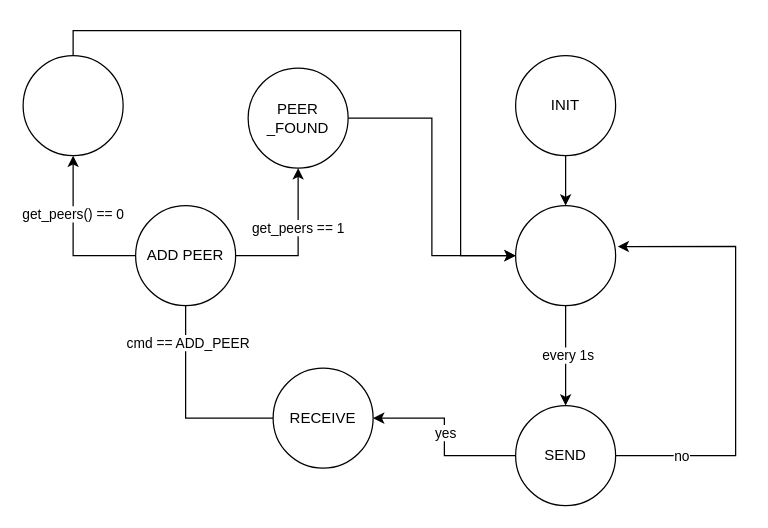
The diagram is 768 pixels wide and 528 high, and some of its shapes have lost their labels. Here are the shapes that lost their labels. From the top down, the box of each, then its label:
(22, 54, 123, 156): PEER_NOT _FOUND
(514, 204, 616, 306): IDLE
